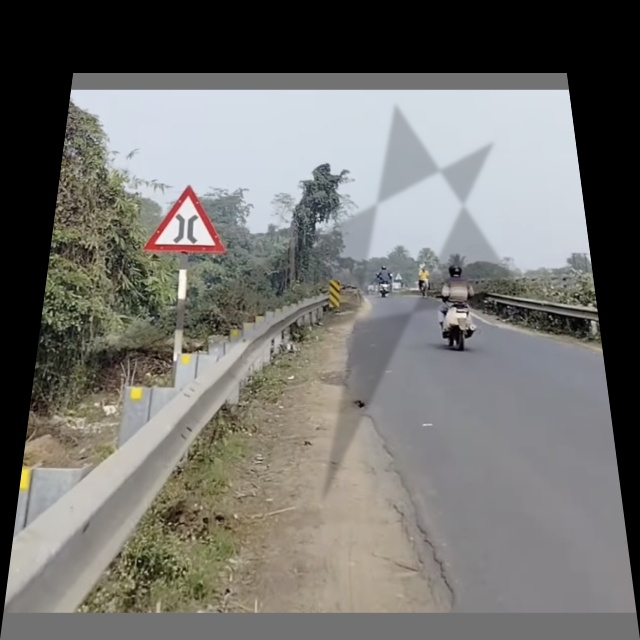Narrow_Bridge: (148, 185, 230, 255)
